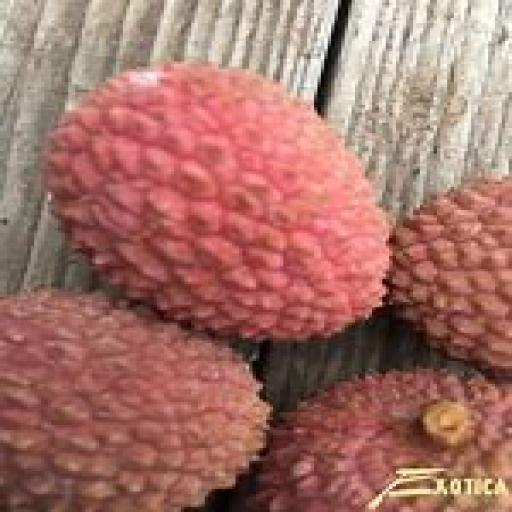lychee: (48, 64, 389, 340), (0, 292, 269, 511), (256, 372, 511, 511), (390, 177, 511, 373)
